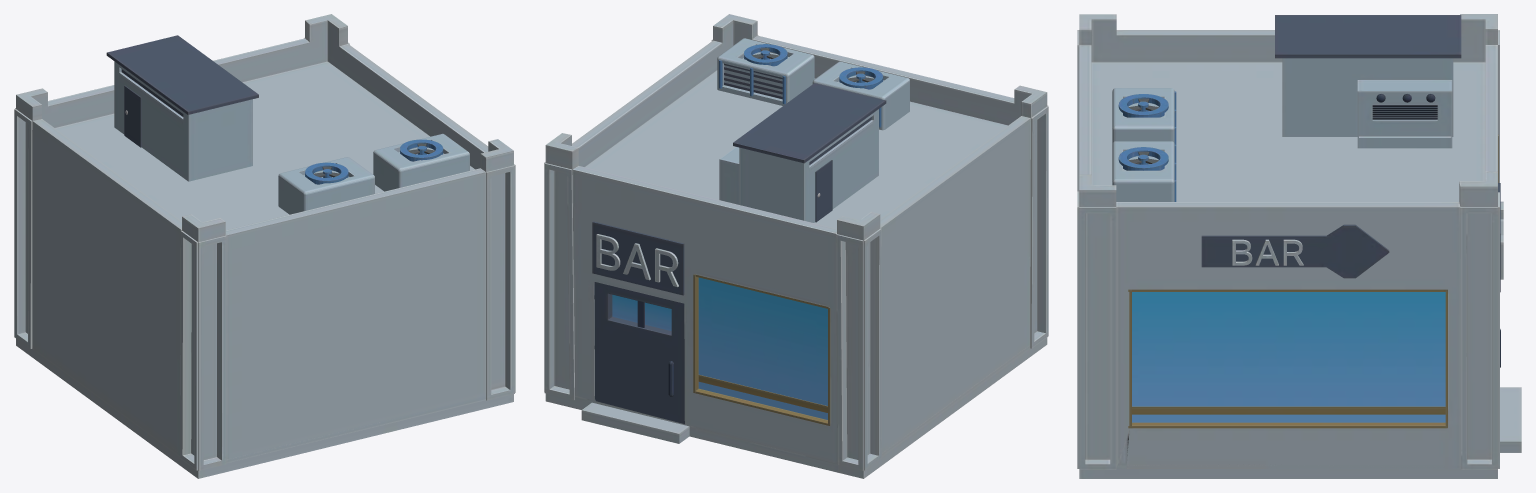
Rendered from bar_free_model.glb.
3 renders of one model, left to right at view 1: azimuth 30°, elevation 25°; view 2: azimuth 150°, elevation 25°; view 3: azimuth 270°, elevation 25°, orthographic. The views are drawn at different scales.
Visible parts, largest first — view 1: Node; view 2: Node; view 3: Node.
Boxes of the visible parts, x1,y1,x2,y2 form: Node: (14,14,515,478); Node: (544,14,1048,478); Node: (1077,14,1521,478).
Size of the model in its own units: 272 by 231 by 283.
Materials: 1 (1 with a texture image).
